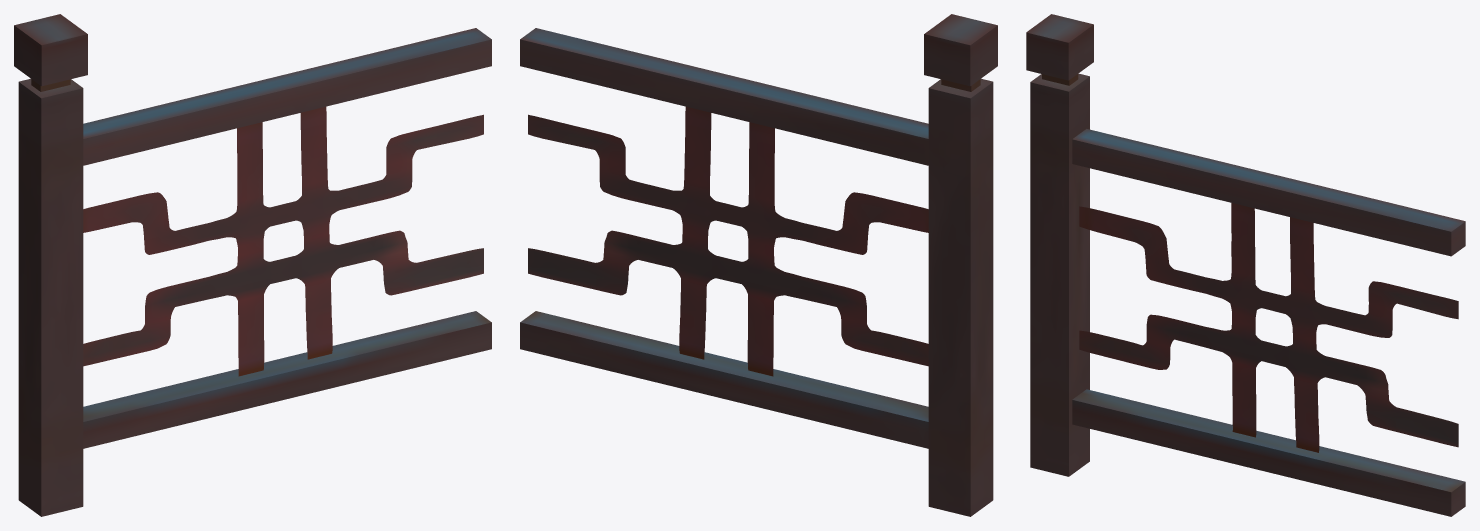
Rendered from BFence_A.fbx.
3 renders of one model, left to right at view 1: azimuth 30°, elevation 25°; view 2: azimuth 150°, elevation 25°; view 3: azimuth 330°, elevation 25°, orthographic. The views are drawn at different scales.
Parts seen in each view (by area): view 1: BFence_A; view 2: BFence_A; view 3: BFence_A.
Part boxes in pixels (box(x1,y1,x2,y2)): BFence_A: box(14, 14, 491, 516); BFence_A: box(520, 14, 997, 516); BFence_A: box(1026, 14, 1465, 516).
Bounding box in the file's own units: 101 × 100 × 10.5.
